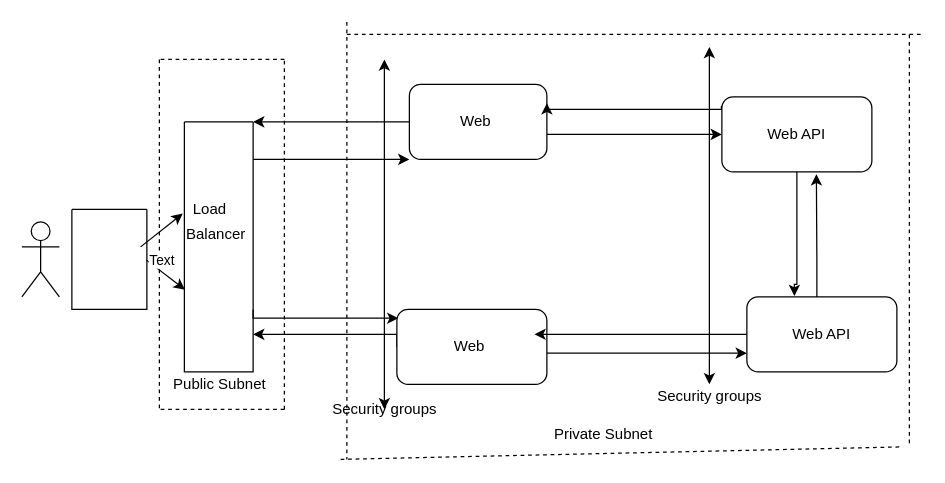
This 945x483 diagram has some shape labels left out. The shapes that lost their labels are listed below. From the top down, each one's centre as x and y in pixels, then its label:
point 40,259: User
point 109,258: Browser
